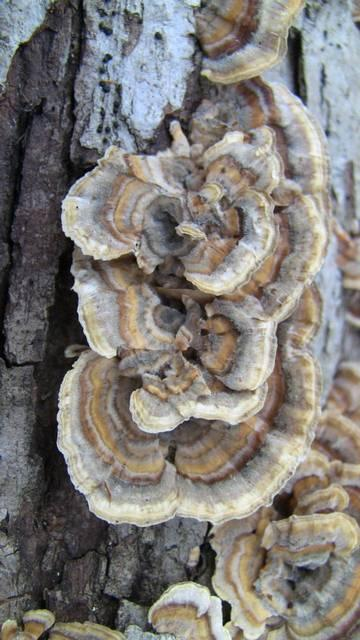Non-edible Mushroom: (55, 74, 332, 526), (191, 0, 309, 86)
